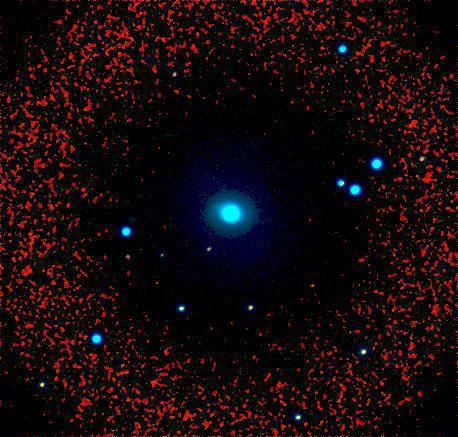star: (298, 271, 328, 301)
